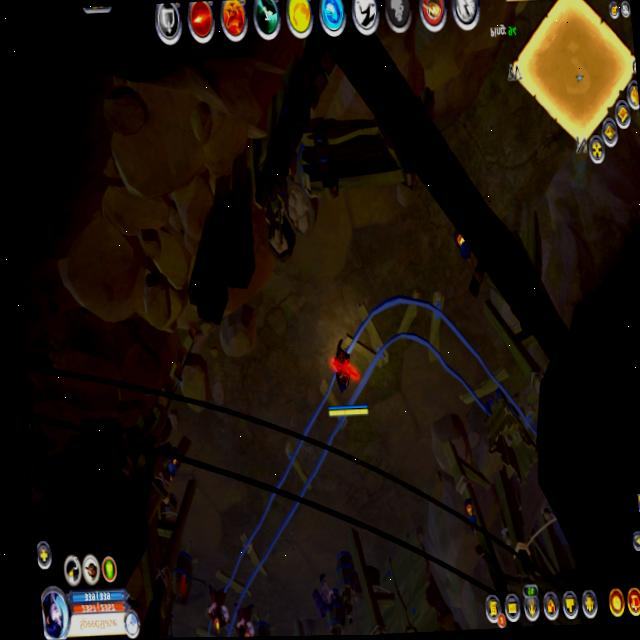ore: (200, 577, 236, 637), (229, 596, 262, 637)
red: (317, 331, 371, 422)
